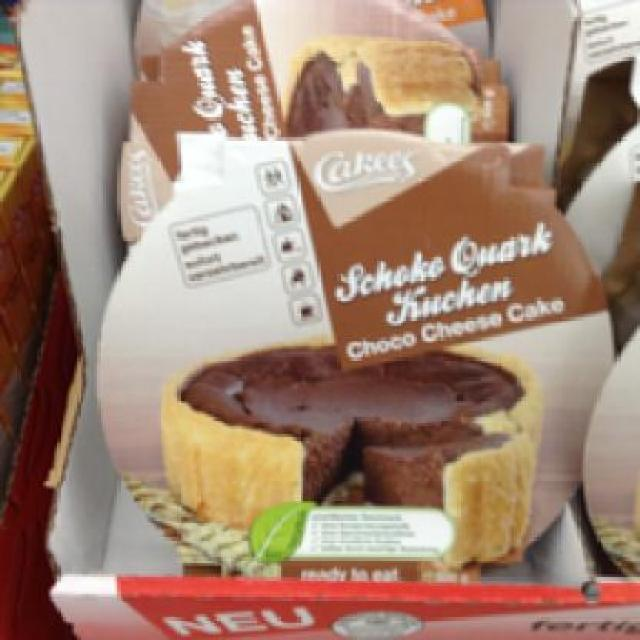Cake: (94, 126, 620, 574)
